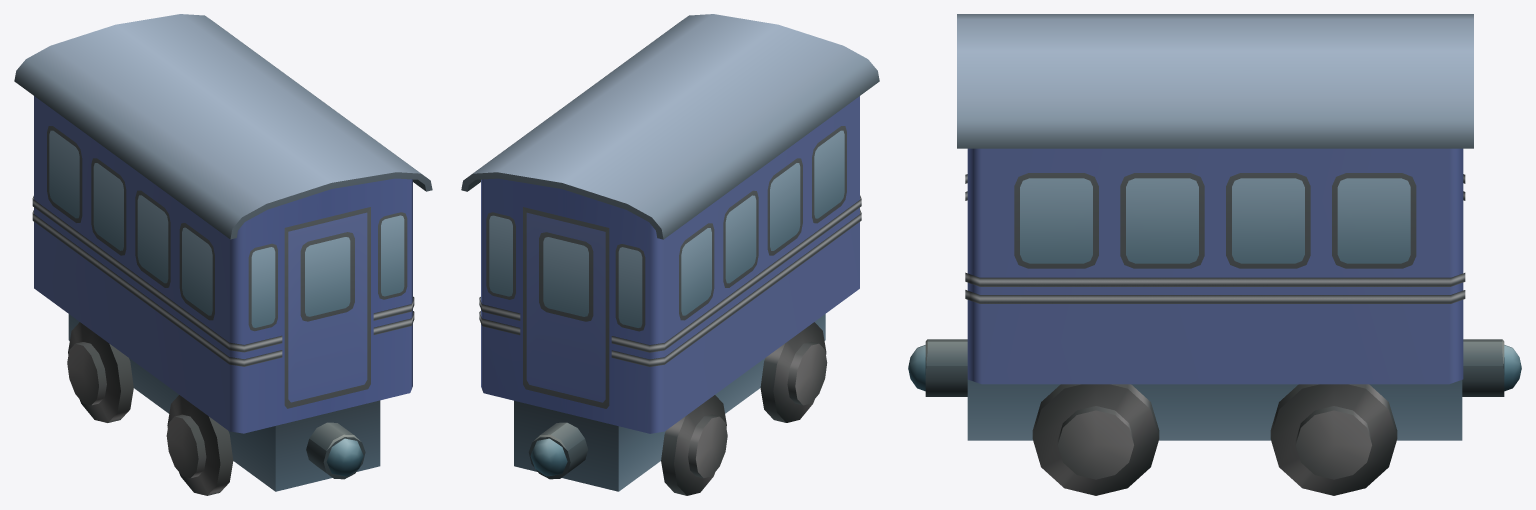
The model's file is Carriage_Pass_B.fbx.
3 views of the same model, side by side, from view 1: azimuth 30°, elevation 25°; view 2: azimuth 150°, elevation 25°; view 3: azimuth 270°, elevation 25° (orthographic). The views are drawn at different scales.
Parts seen in each view (by area): view 1: Carriage_Pass_B; view 2: Carriage_Pass_B; view 3: Carriage_Pass_B.
Boxes of the visible parts, x1,y1,x2,y2 form: Carriage_Pass_B: [14, 14, 432, 495]; Carriage_Pass_B: [461, 14, 879, 495]; Carriage_Pass_B: [908, 14, 1521, 495].
Bounding box in the file's own units: 307 × 483 × 675.
